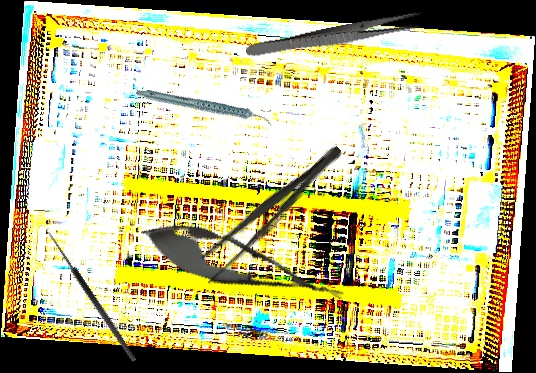Dressing Forceps: (191, 137, 350, 288), (244, 10, 425, 63)
Handpiece: (134, 62, 274, 154)
Hook Surgical: (38, 229, 138, 367)
Micro Scissor: (132, 208, 353, 321)
